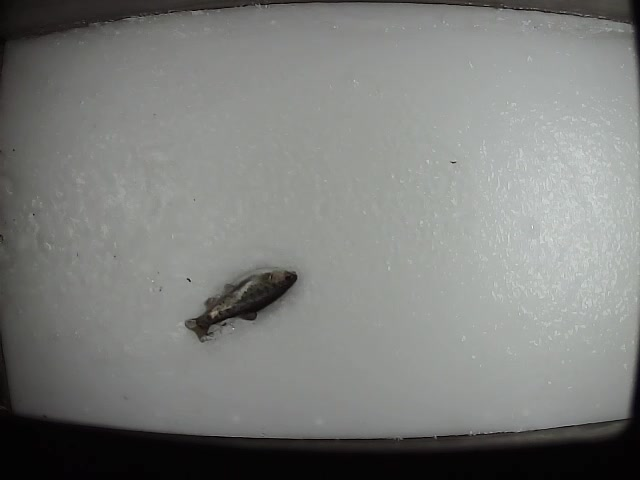fish: (181, 263, 298, 342)
